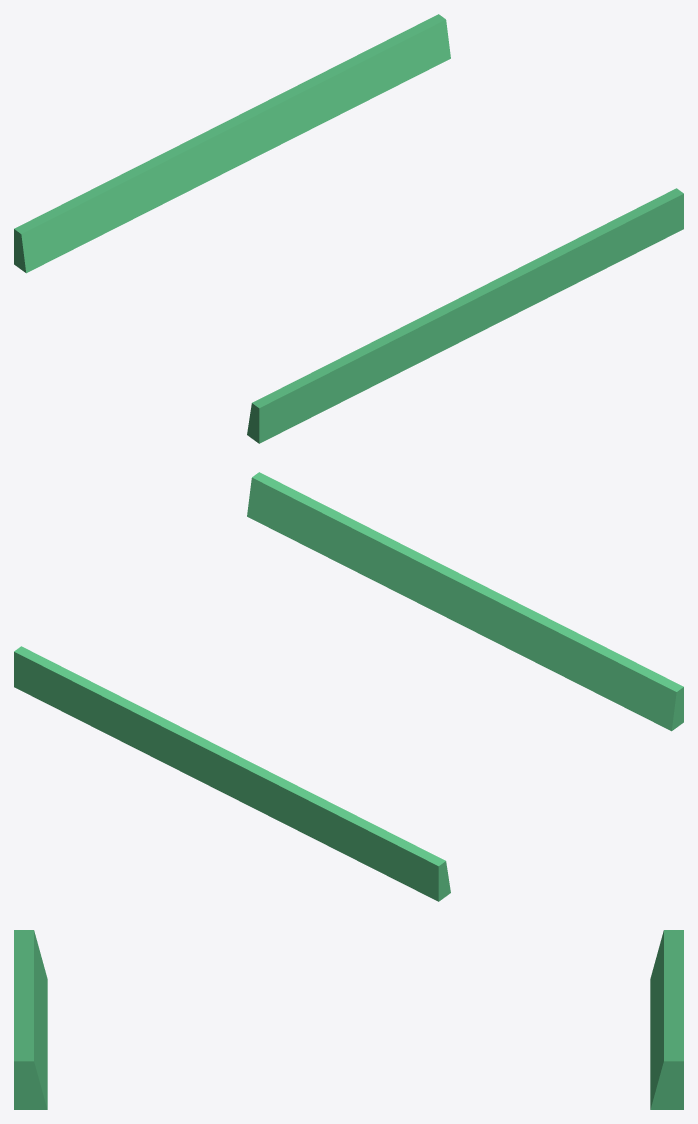
File: road_slant_barrier.glb
3 renders of one model, top to bottom at view 1: azimuth 30°, elevation 25°; view 2: azimuth 150°, elevation 25°; view 3: azimuth 270°, elevation 25°, orthographic. The views are drawn at different scales.
Visible parts, largest first — view 1: road-slant-barrier; view 2: road-slant-barrier; view 3: road-slant-barrier.
Boxes of the visible parts, <box> form: road-slant-barrier: <box>14,14,683,443</box>; road-slant-barrier: <box>14,472,683,901</box>; road-slant-barrier: <box>14,930,683,1109</box>.
Bounding box in the file's own units: 1 × 0.33 × 1.
Materials: 1 (1 with a texture image).
